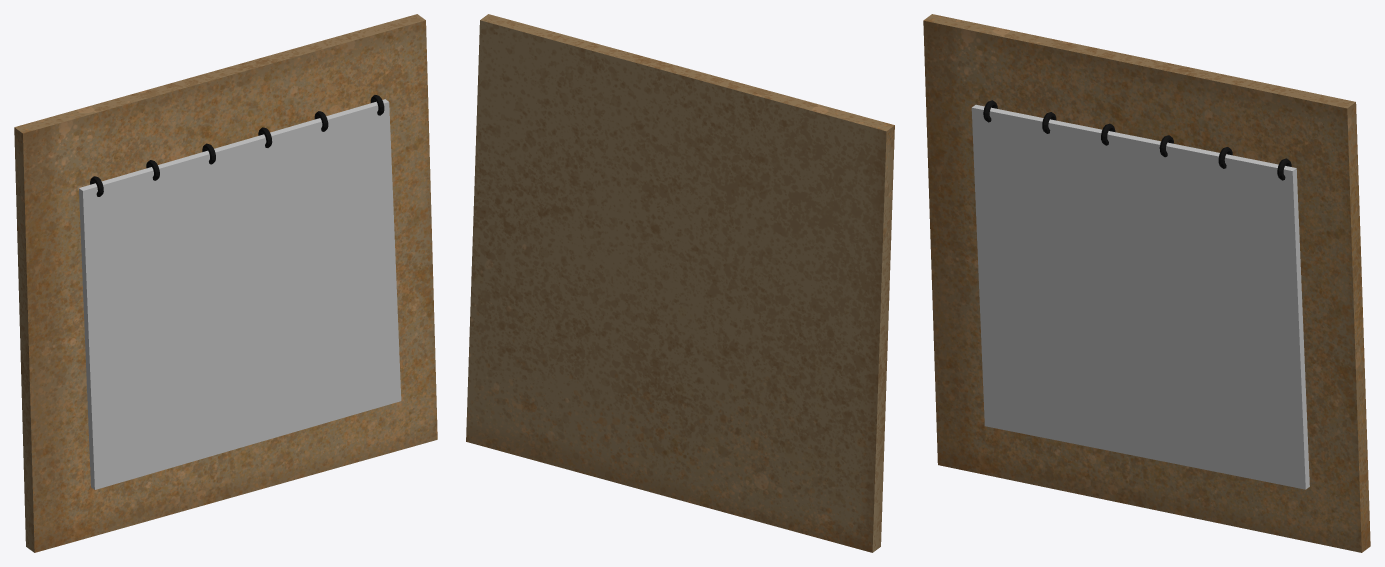
Rendered from corcho_calendario.obj.
3 views of the same model, side by side, from view 1: azimuth 30°, elevation 25°; view 2: azimuth 150°, elevation 25°; view 3: azimuth 330°, elevation 25° (orthographic). The views are drawn at different scales.
Parts seen in each view (by area): view 1: Cube.031, Cube.030; view 2: Cube.030; view 3: Cube.031, Cube.030.
Part boxes in pixels (x1=…): Cube.031: x1=79, y1=99, x2=401, y2=489; Cube.030: x1=14, y1=14, x2=437, y2=552; Cube.030: x1=466, y1=14, x2=894, y2=552; Cube.031: x1=971, y1=104, x2=1309, y2=489; Cube.030: x1=923, y1=14, x2=1370, y2=552.
Size of the model in its own units: 2.69 by 2.69 by 0.2371.
3 materials, 1 textured.
